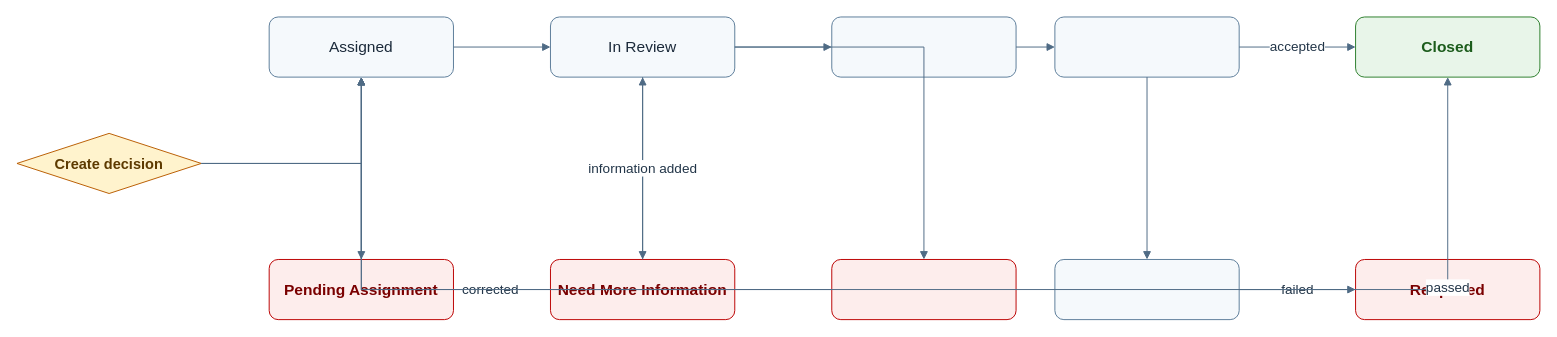
Image size: 1557x337. Some labels were removed from this diagram. Here are the shapes that lost their labels. From the top down, the centre of each, then its label:
At point 923,46: "In Progress".
At point 1146,46: "Resolved".
At point 923,289: "Rejected with follow-up".
At point 1146,289: "Retest Required".
